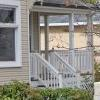stairs: (30, 75, 84, 88)
